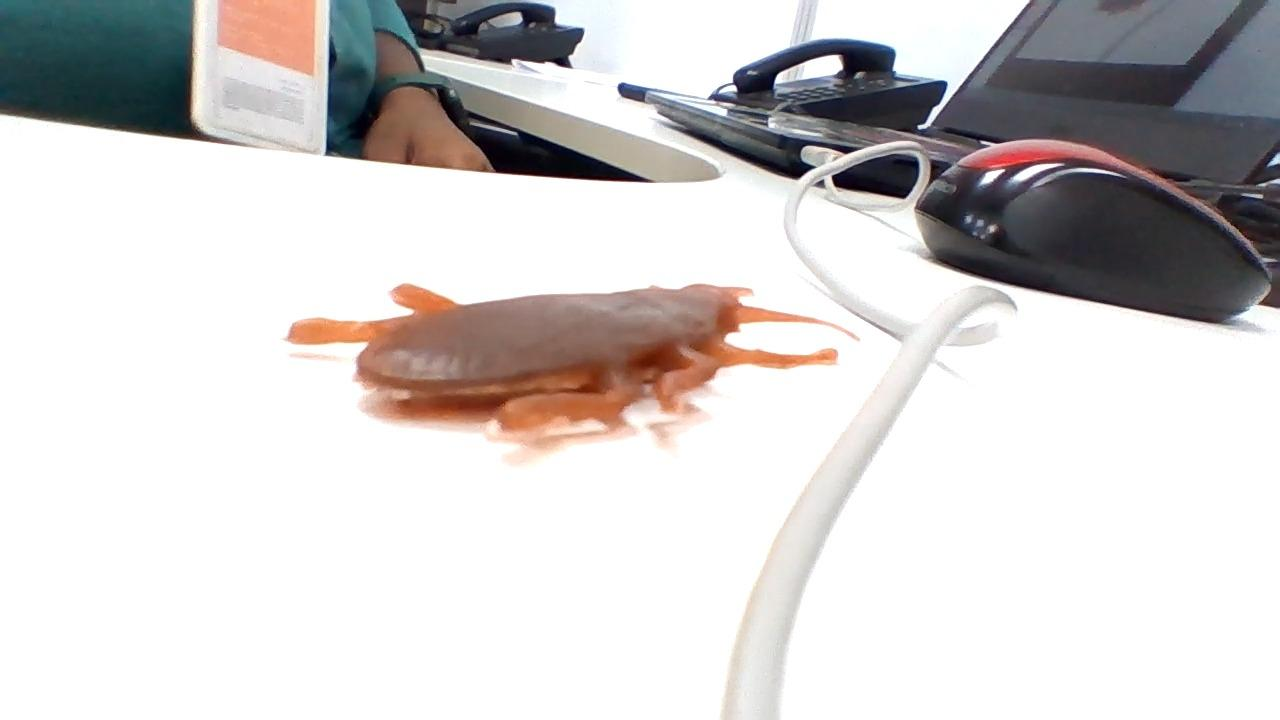cockroach: (273, 245, 851, 453)
